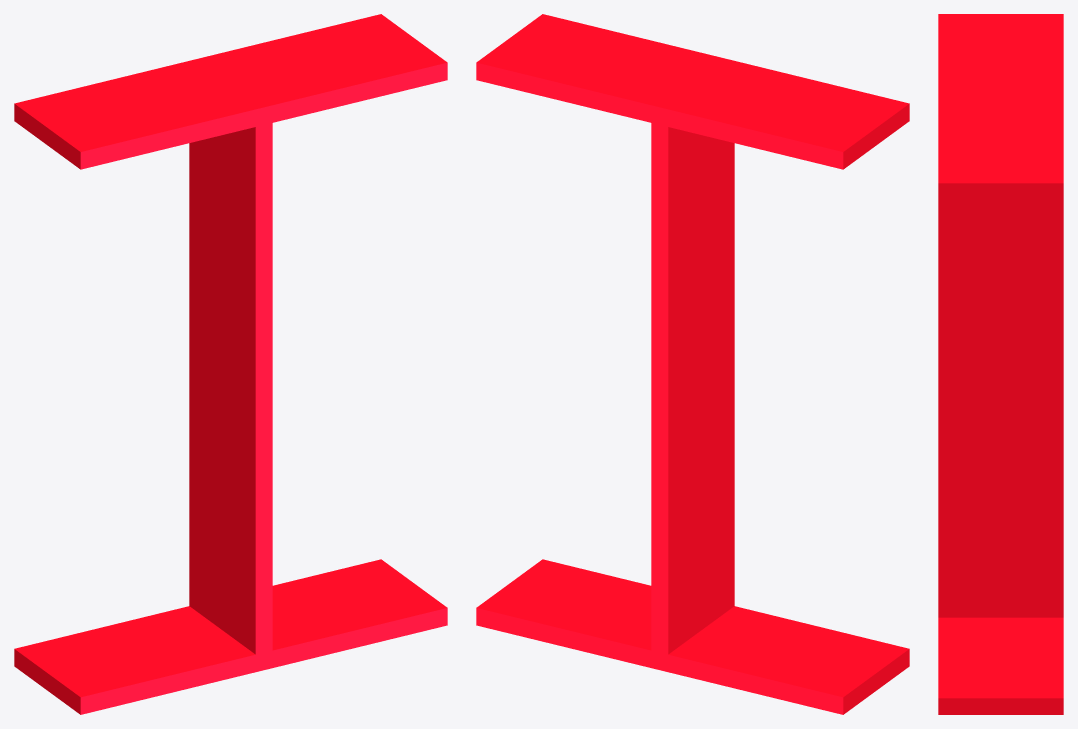
The picture shows the model from 3 angles, left to right: view 1: azimuth 30°, elevation 25°; view 2: azimuth 150°, elevation 25°; view 3: azimuth 270°, elevation 25°; orthographic projection. The views are drawn at different scales.
Visible parts, largest first — view 1: i_AlphaProta_Red; view 2: i_AlphaProta_Red; view 3: i_AlphaProta_Red.
Part boxes in pixels (x1,y1,x2,y2): i_AlphaProta_Red: [14, 14, 447, 714]; i_AlphaProta_Red: [476, 14, 909, 714]; i_AlphaProta_Red: [938, 14, 1063, 714].
Size of what is drawn, in the model's own units: 0.1436 by 0.2105 by 0.045.
Materials: 2 (2 with a texture image).
